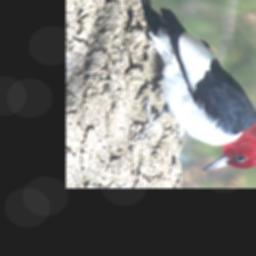Woodpecker: (127, 2, 256, 173)
